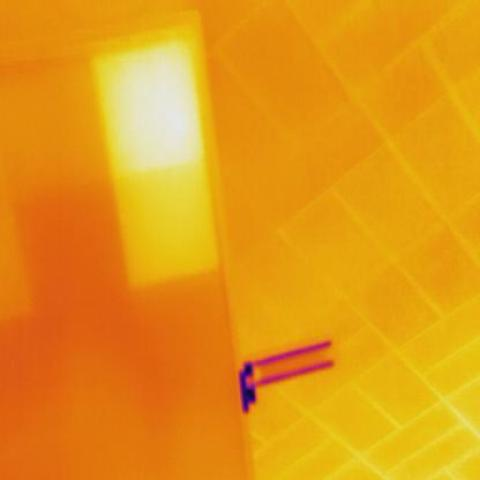fault: (108, 58, 201, 165)
